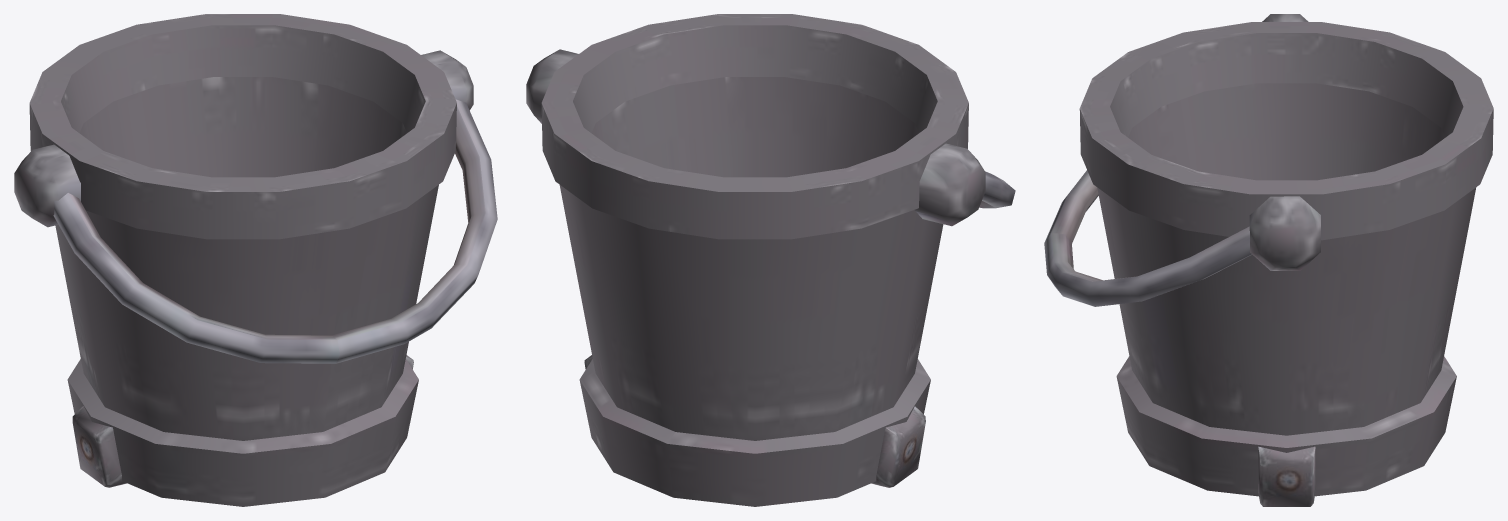
Rendered from quench_bucket.glb.
3 renders of one model, left to right at view 1: azimuth 30°, elevation 25°; view 2: azimuth 150°, elevation 25°; view 3: azimuth 270°, elevation 25°, orthographic. The views are drawn at different scales.
Parts seen in each view (by area): view 1: Bucket_Metal.001; view 2: Bucket_Metal.001; view 3: Bucket_Metal.001.
Part boxes in pixels (bbox=[...]): Bucket_Metal.001: bbox=[14, 14, 497, 506]; Bucket_Metal.001: bbox=[526, 14, 1015, 506]; Bucket_Metal.001: bbox=[1044, 14, 1493, 506].
Size of the model in its own units: 0.4854 by 0.365 by 0.449.
1 material, 1 textured.
